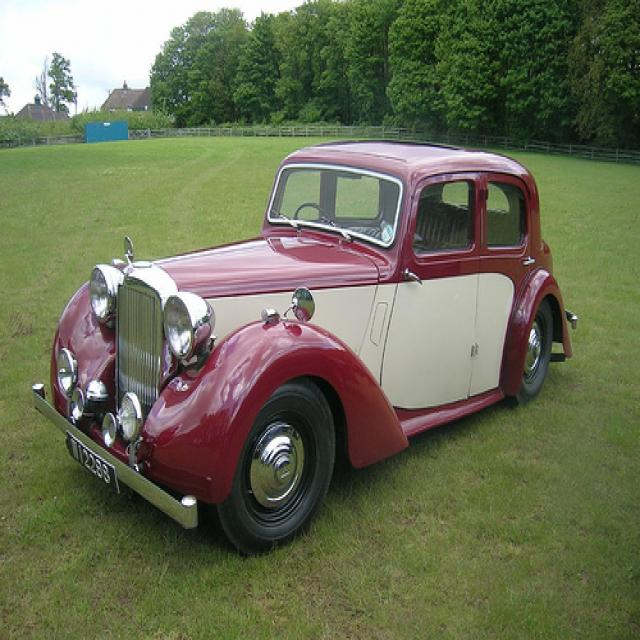Car: (28, 133, 577, 552)
